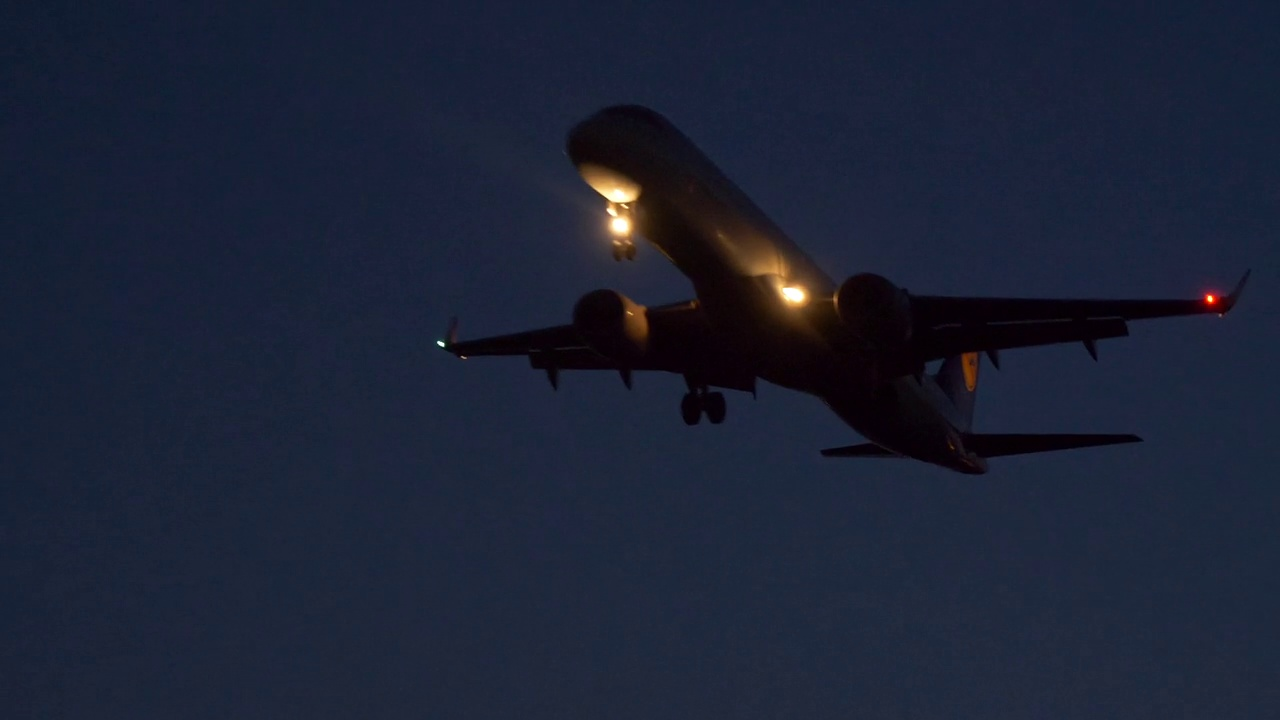plane: (432, 101, 1254, 476)
